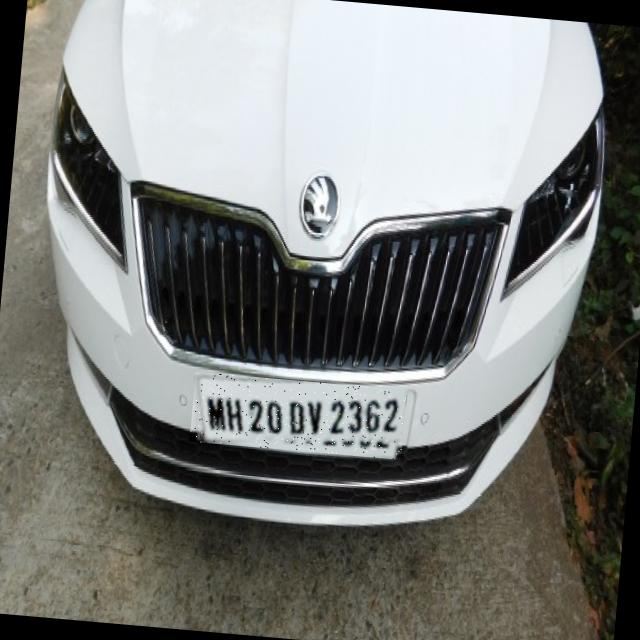Plate: (190, 373, 407, 461)
